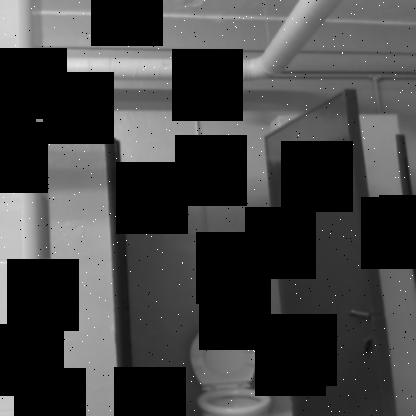Porte: (104, 87, 399, 416)
